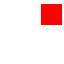square: (41, 4, 61, 24)
